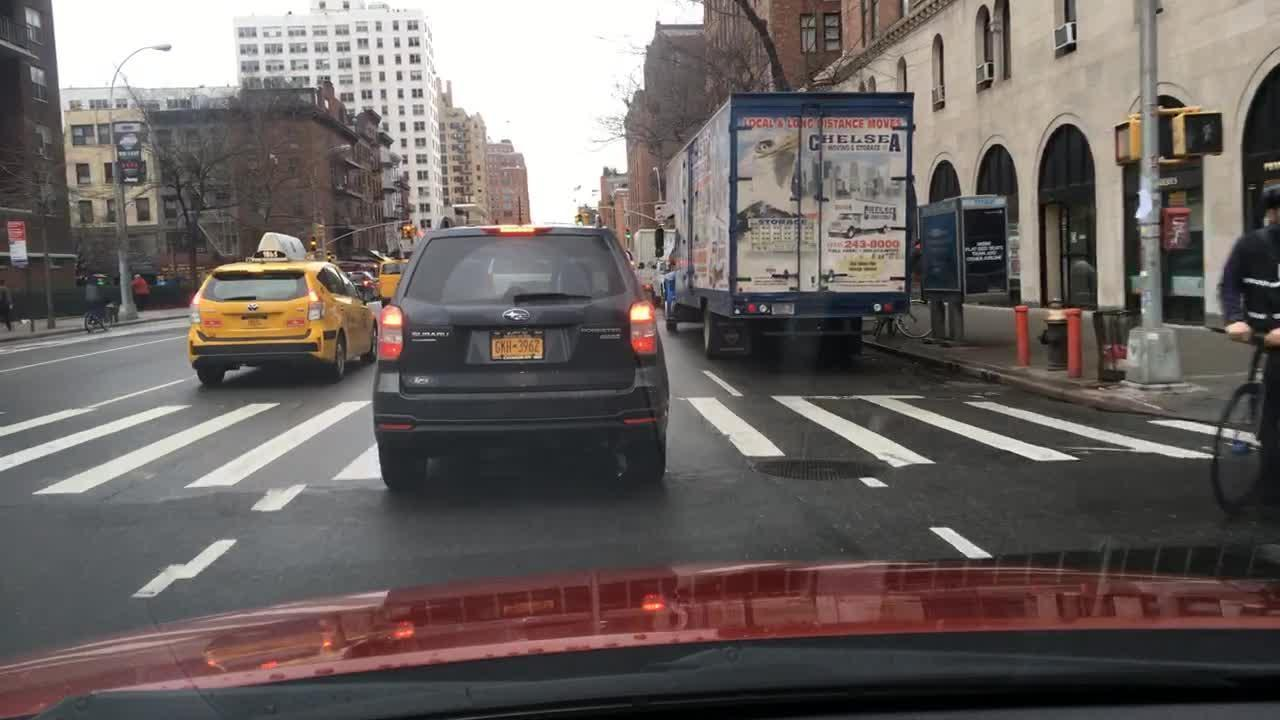Toyota: (245, 301, 261, 312)
subaru: (499, 306, 532, 327)
